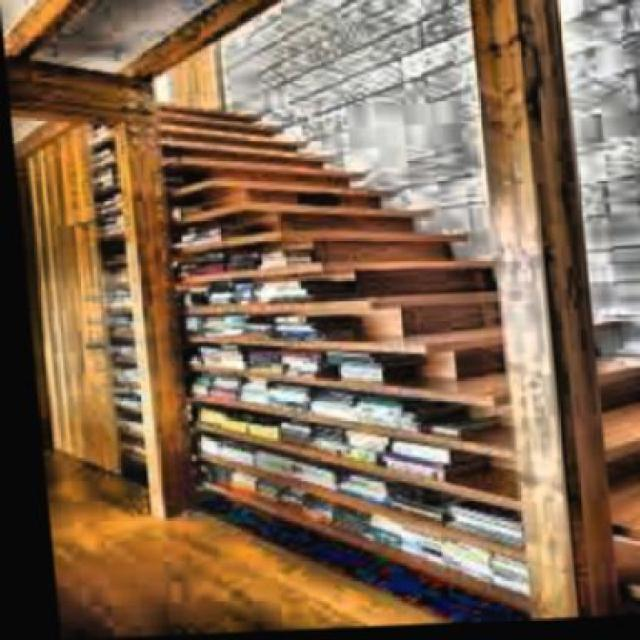stair: (184, 108, 638, 632)
